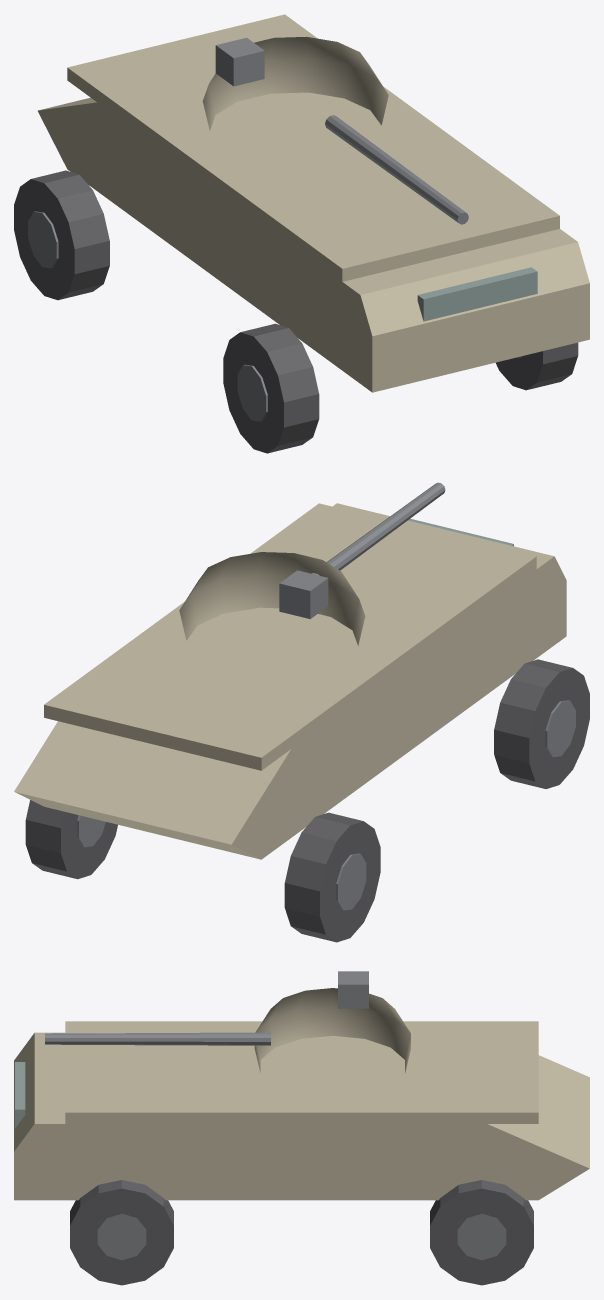
The model's file is 3-armoured-column-and-field-camp-armoured-car-152ca19b.glb.
The picture shows the model from 3 angles, top to bottom: view 1: azimuth 30°, elevation 25°; view 2: azimuth 150°, elevation 25°; view 3: azimuth 270°, elevation 25°; orthographic projection. The views are drawn at different scales.
Parts seen in each view (by area): view 1: armoured-car, turret (×2); view 2: armoured-car, turret (×2); view 3: armoured-car, turret (×2).
Boxes of the visible parts, x1,y1,x2,y2 form: armoured-car: (14,14,589,453); turret (×2): (202,36,468,224); armoured-car: (14,503,589,942); turret (×2): (179,482,445,645); armoured-car: (14,1021,589,1285); turret (×2): (45,971,410,1073).
Size of the model in its own units: 2.86 by 2.52 by 5.6.
